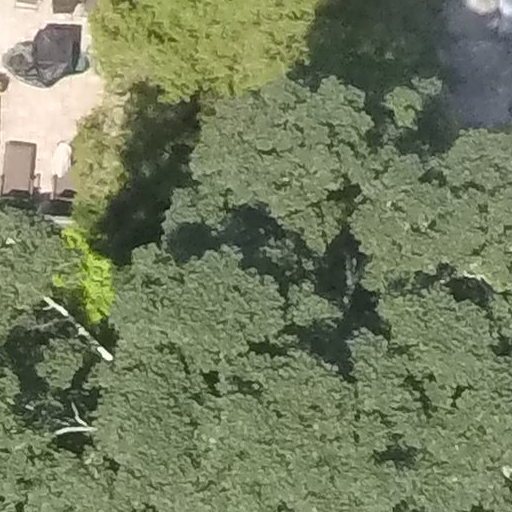chair: (1, 132, 47, 213)
tarp: (2, 38, 100, 92)
